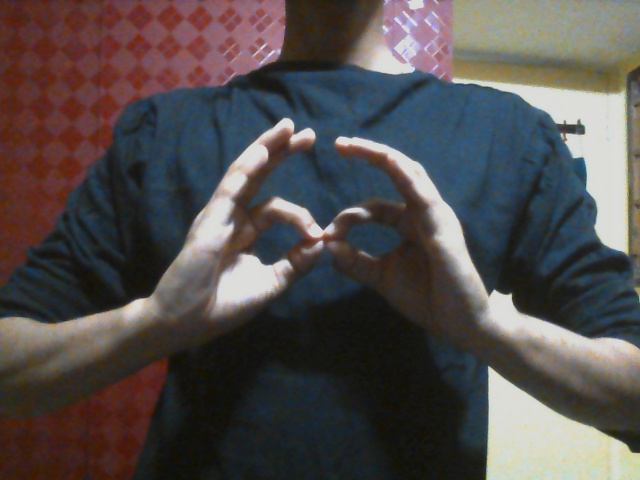B: (150, 118, 490, 349)
